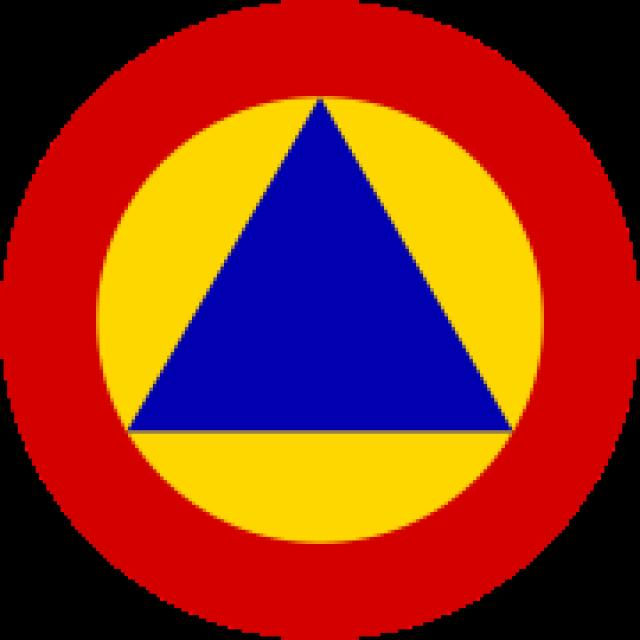Traffic sign: (28, 40, 624, 603)
